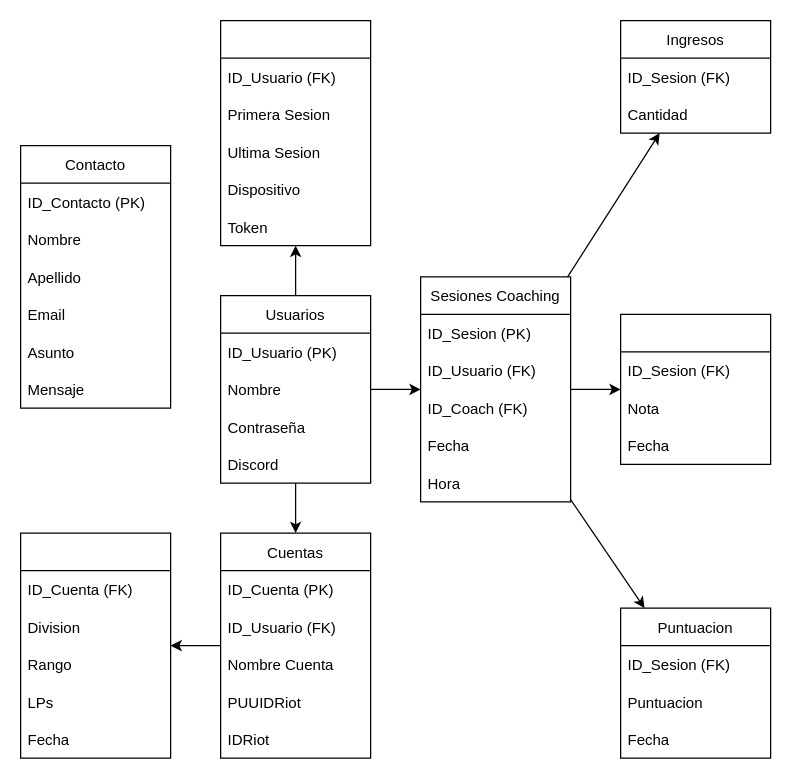
This 791x779 diagram has some shape labels left out. Here are the shapes that lost their labels. From the top down, the box of each, then its label:
(219, 19, 371, 246): Sesiones
(619, 313, 771, 464): Bloc de Notas
(19, 532, 171, 758): Historial
